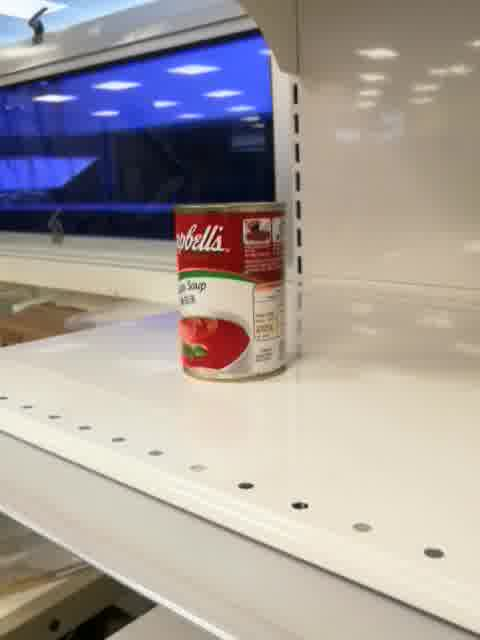tomatosoup: (172, 198, 292, 384)
